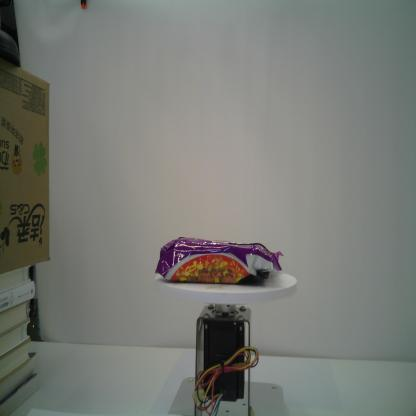Instant Noodles: (154, 236, 284, 286)
